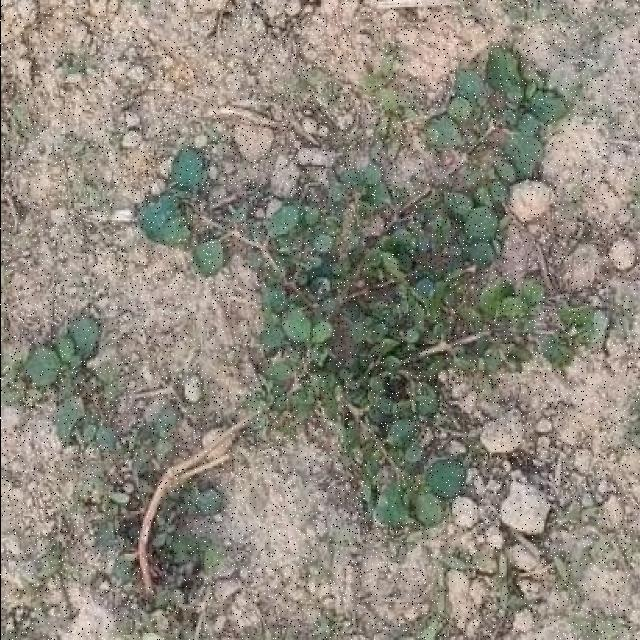weed: (260, 50, 607, 526), (137, 143, 209, 240), (336, 160, 389, 208), (191, 234, 222, 275)
